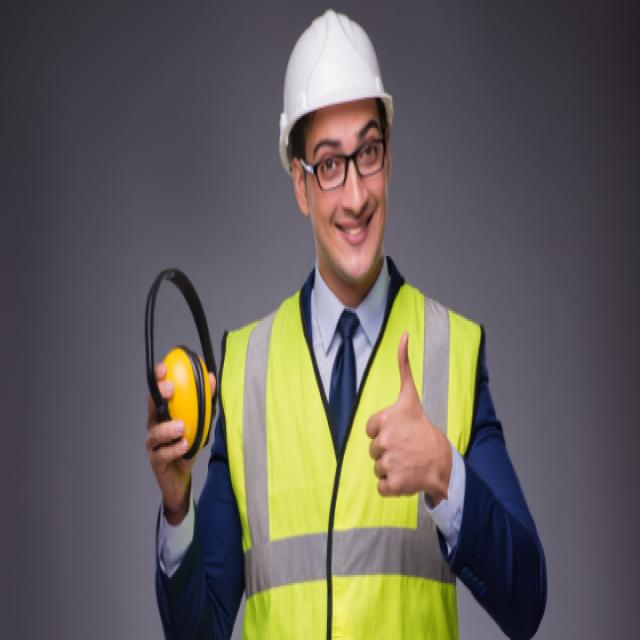Ear Muffs: (153, 343, 201, 468), (190, 346, 218, 462)
Hard Hat: (274, 3, 407, 158)
Reflective Vest: (219, 270, 478, 639)
Safety Glasses: (294, 122, 396, 197)
